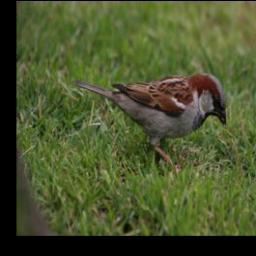Sparrow: (72, 71, 229, 175)
